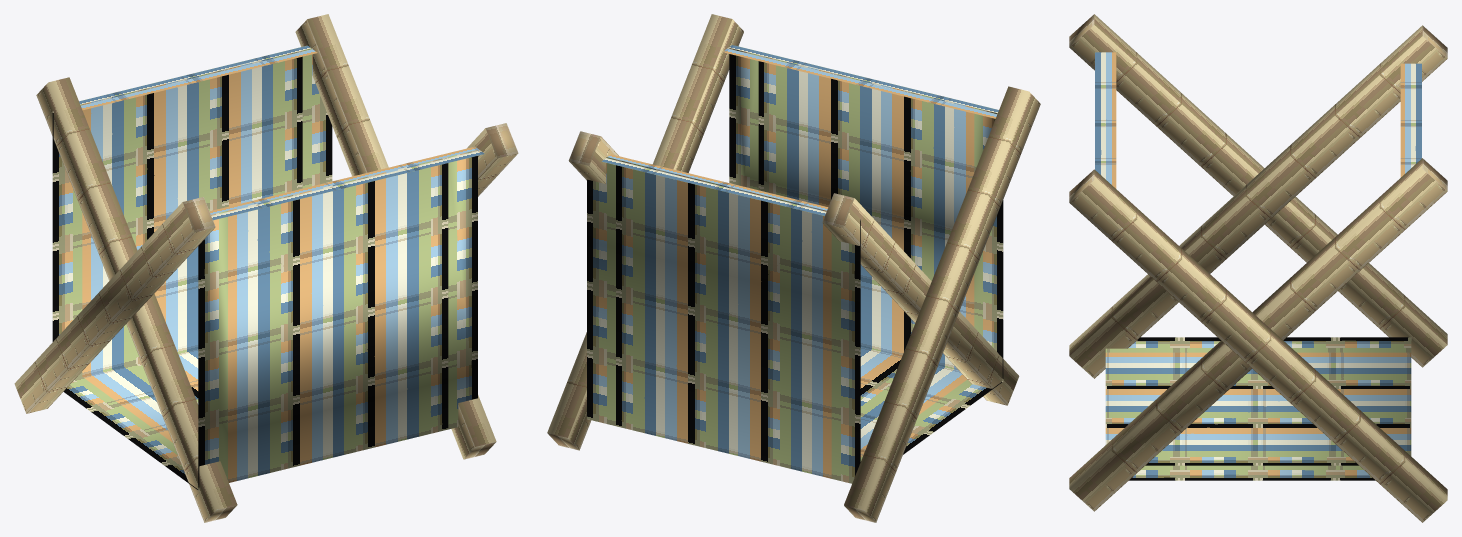
File: 3120IMRL09_11.gltf
The picture shows the model from 3 angles, left to right: view 1: azimuth 30°, elevation 25°; view 2: azimuth 150°, elevation 25°; view 3: azimuth 270°, elevation 25°; orthographic projection. The views are drawn at different scales.
Visible parts, largest first — view 1: 3120IMRL09_11; view 2: 3120IMRL09_11; view 3: 3120IMRL09_11.
Boxes of the visible parts, x1,y1,x2,y2 form: 3120IMRL09_11: (14, 14, 518, 522); 3120IMRL09_11: (547, 14, 1040, 522); 3120IMRL09_11: (1069, 14, 1447, 522).
Bounding box in the file's own units: 0.6709 × 0.6456 × 0.6458.
Materials: 3 (3 with a texture image).
